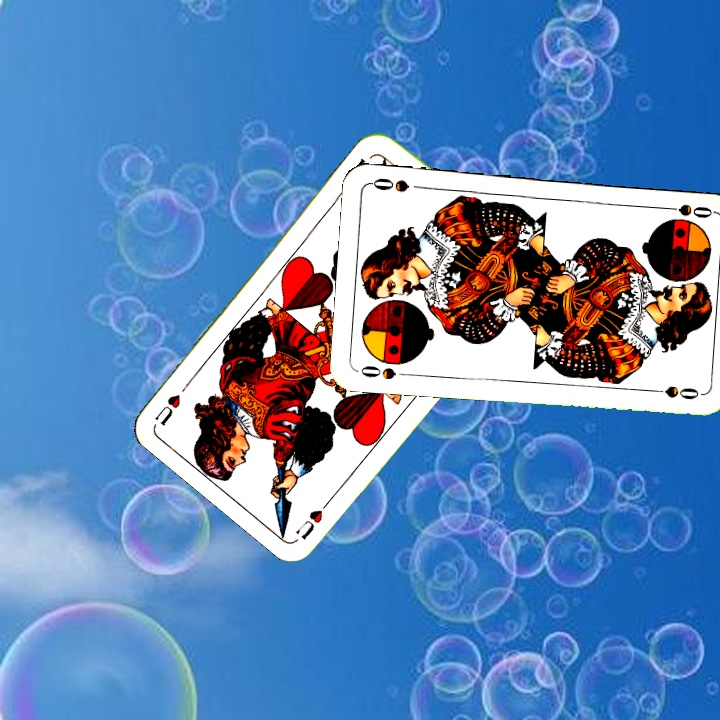HU: (291, 492, 336, 542)
SO: (656, 200, 716, 221), (354, 361, 413, 382)
